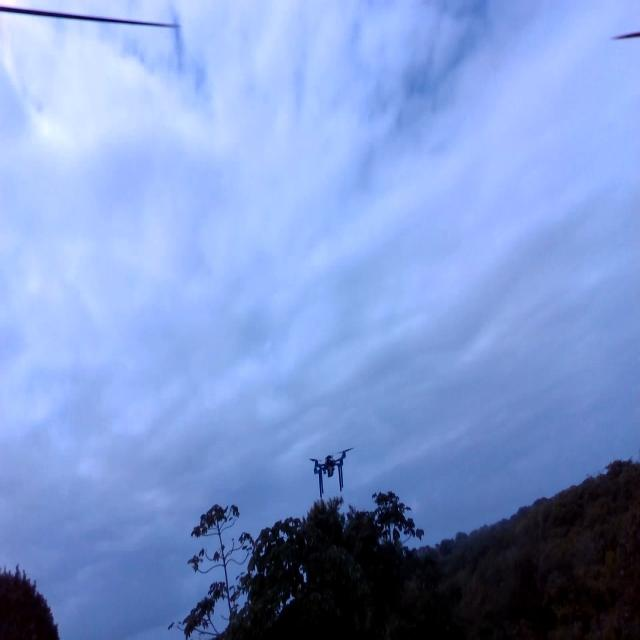-uav-: (306, 444, 358, 498)
